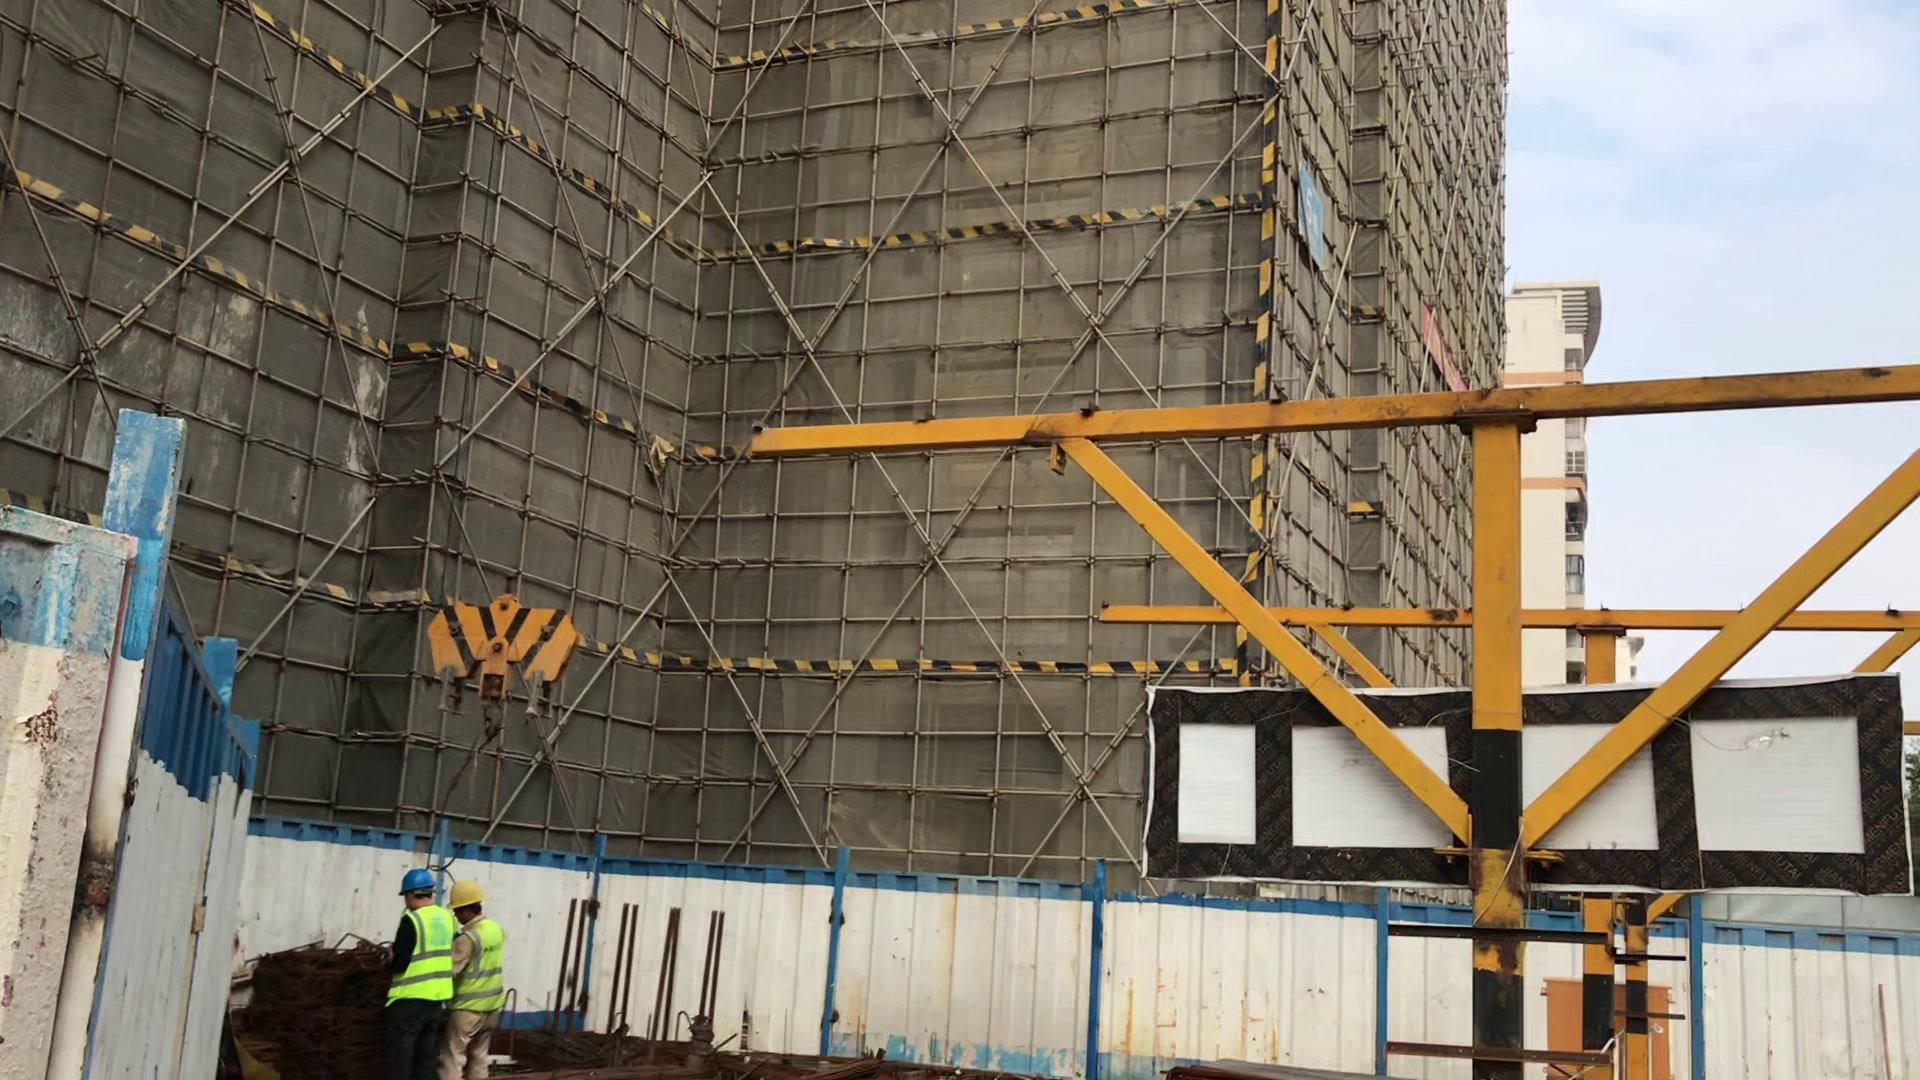ebox: (1537, 959, 1683, 1080)
helmet: (379, 860, 439, 901), (447, 877, 489, 924)
hook: (419, 578, 588, 759)
person: (433, 864, 537, 1080), (381, 853, 454, 1080)
slogan: (1284, 153, 1358, 274)
vest: (387, 908, 457, 1009), (457, 920, 512, 1028)
